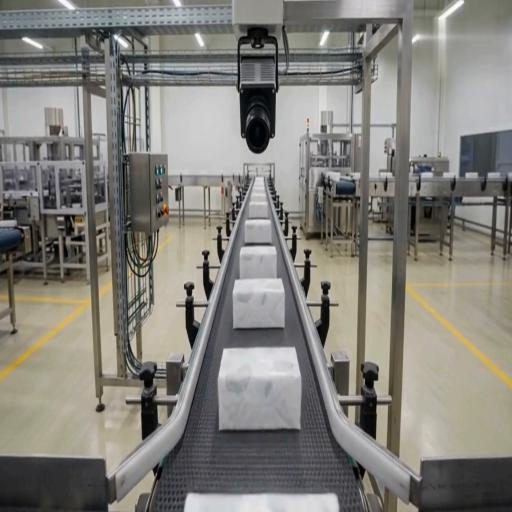good: (216, 342, 303, 434), (187, 490, 339, 512), (232, 278, 286, 330), (238, 245, 278, 279), (242, 218, 272, 244), (248, 199, 269, 220), (248, 183, 268, 202), (250, 176, 268, 188), (464, 172, 478, 178)
